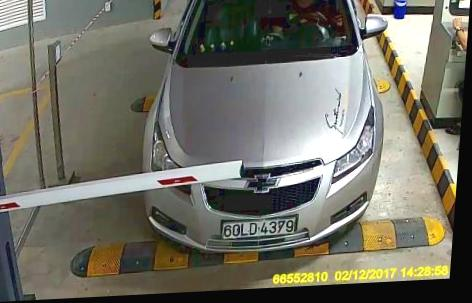License_Plate: (217, 214, 298, 240)
